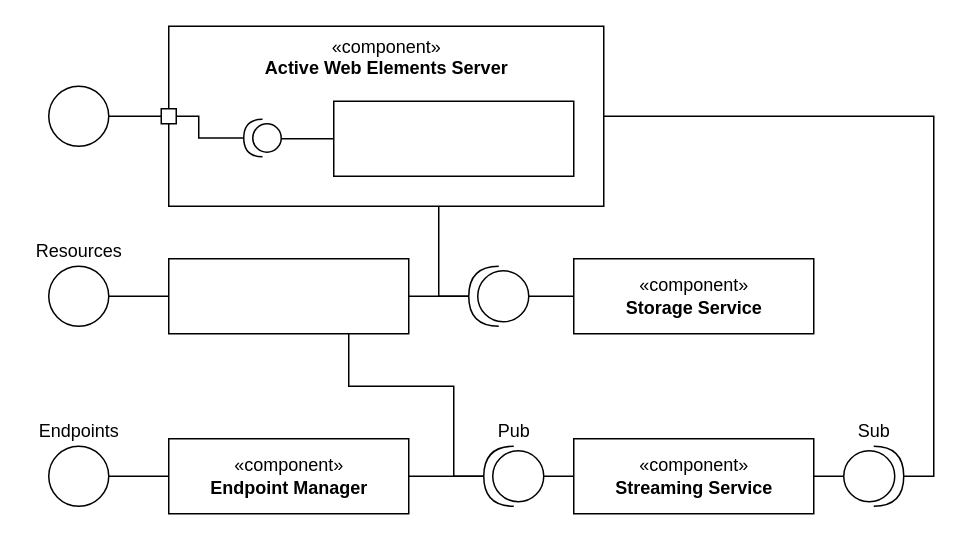
Image size: 962x540. Some labels were removed from this diagram. Here are the shapes that lost their labels. From the top down, the centre of each, then its label:
At point (453, 138): "«component» webKernel".
At point (288, 295): "«component» Resource Manager".
